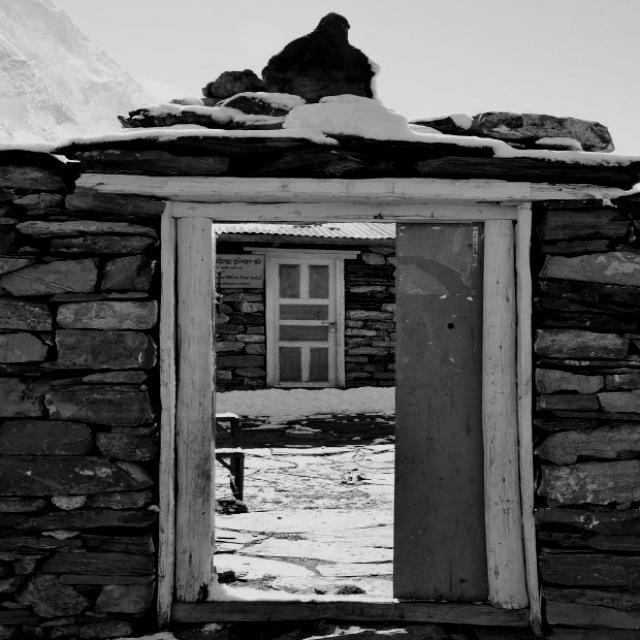door: (254, 248, 353, 388)
